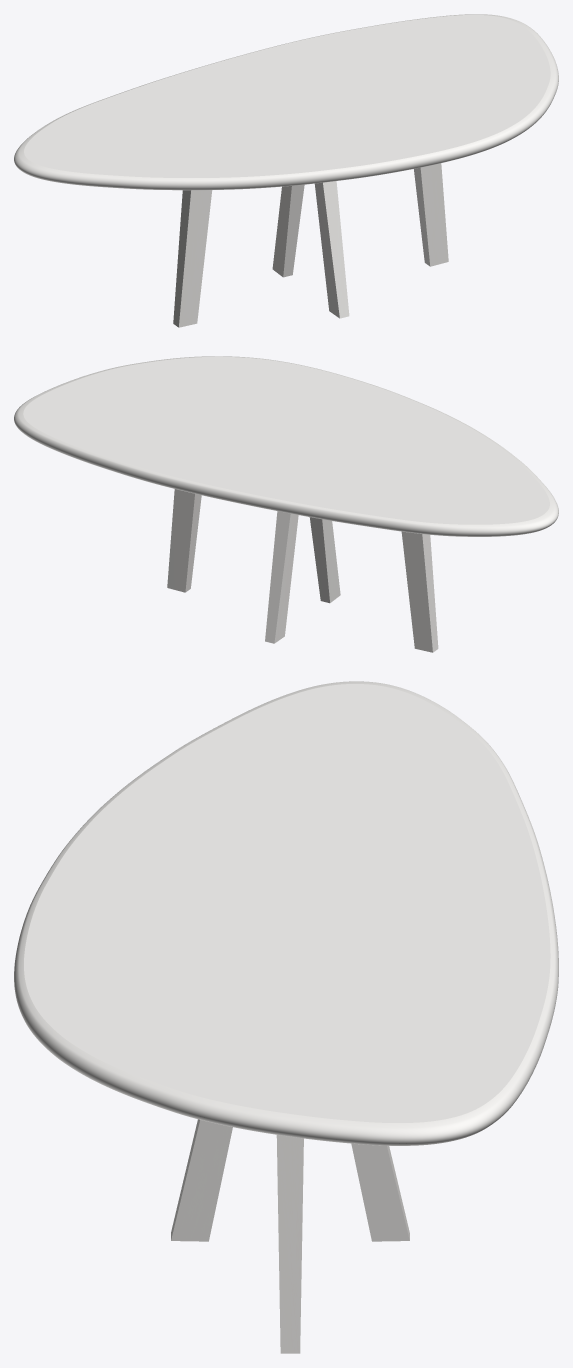
Rendered from purewhite_pebbletop_round_searwalnut.glb.
3 views of the same model, one above another, from view 1: azimuth 30°, elevation 25°; view 2: azimuth 150°, elevation 25°; view 3: azimuth 270°, elevation 25° (orthographic). The views are drawn at different scales.
Visible parts, largest first — view 1: round_pebbletop, searwalnut; view 2: round_pebbletop, searwalnut; view 3: round_pebbletop, searwalnut.
Boxes of the visible parts, x1=… form: round_pebbletop: x1=14, y1=14, x2=558, y2=190; searwalnut: x1=173, y1=163, x2=448, y2=327; round_pebbletop: x1=14, y1=356, x2=558, y2=536; searwalnut: x1=167, y1=489, x2=438, y2=652; round_pebbletop: x1=14, y1=681, x2=558, y2=1145; searwalnut: x1=171, y1=1119, x2=409, y2=1353.
Bounding box in the file's own units: 7.5 × 2.51 × 3.8.
Materials: 1 (1 with a texture image).
